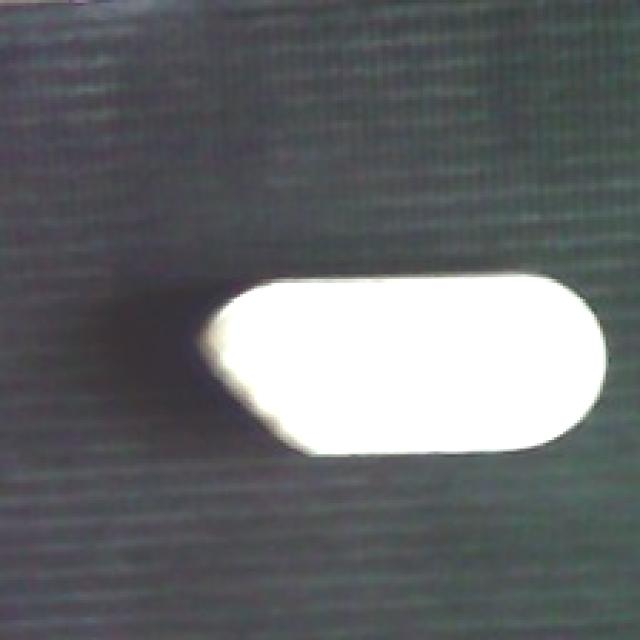defected: (197, 266, 612, 468)
